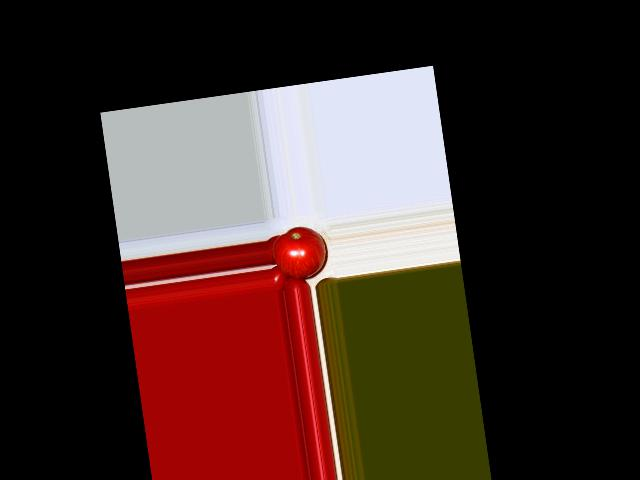tomato: (269, 223, 329, 282)
